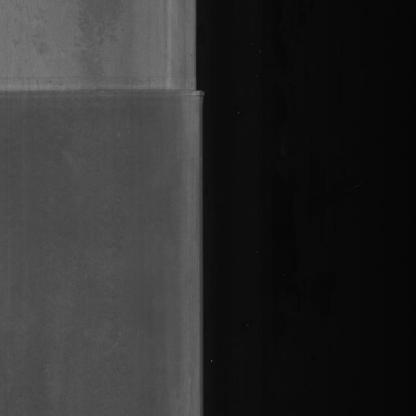welding_line: (0, 74, 207, 106)
